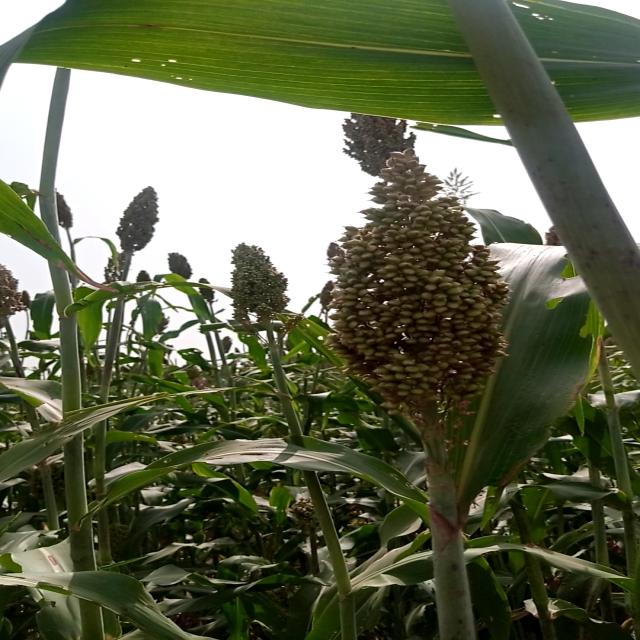UnripeSorghum: (291, 140, 549, 430), (211, 234, 300, 339)
